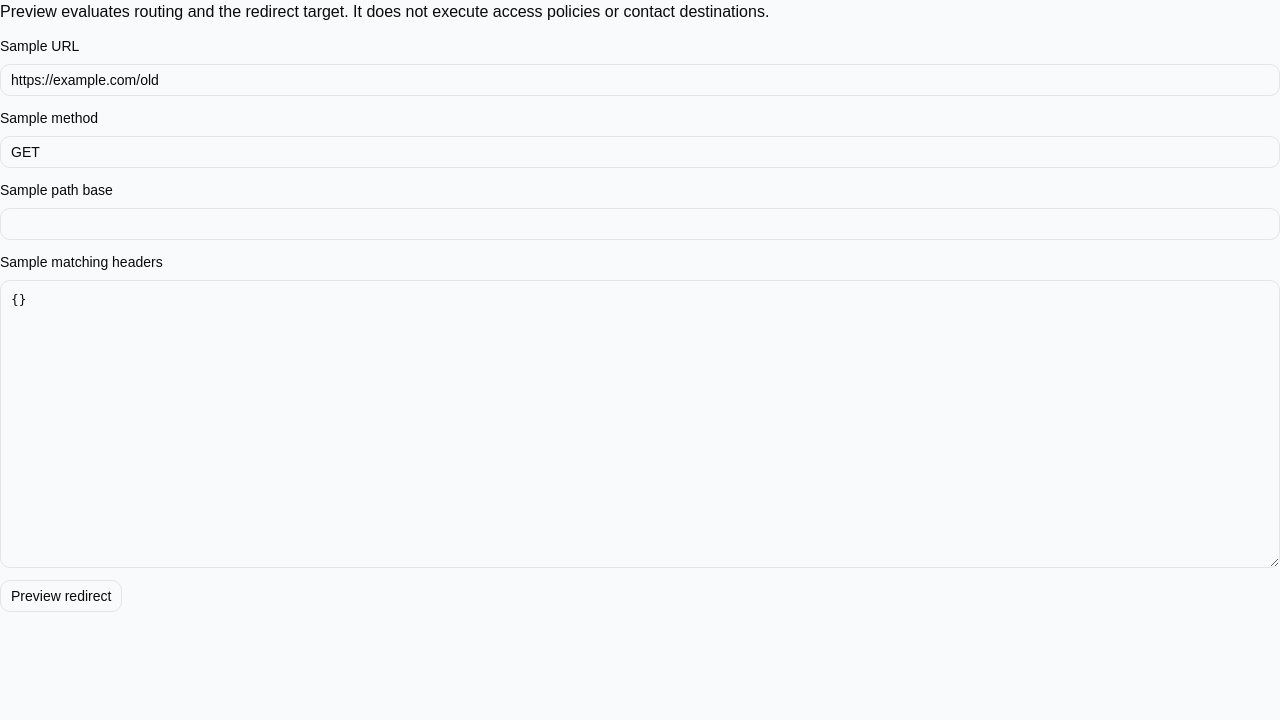
reports validation failures and allows another preview
Click the button "Preview redirect" at (61, 596), box [0, 580, 122, 612]
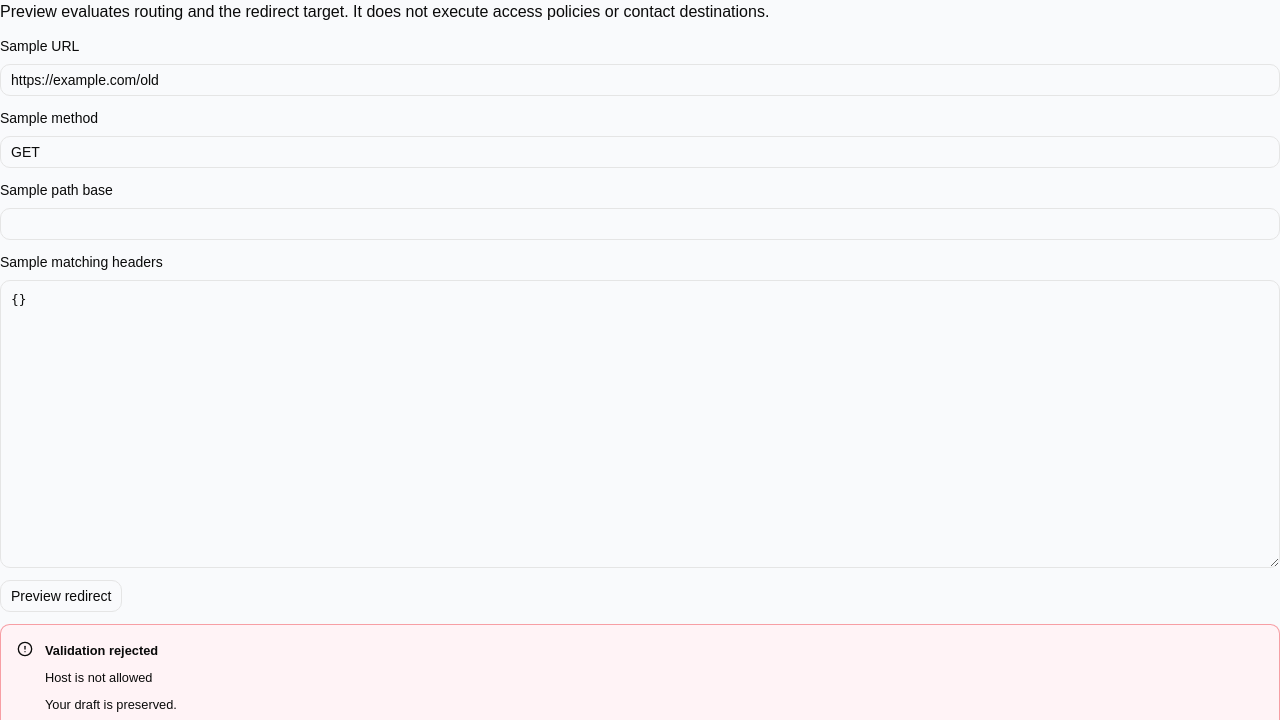
Expected: the message shows "Host is not allowed", [45, 670, 152, 685]
